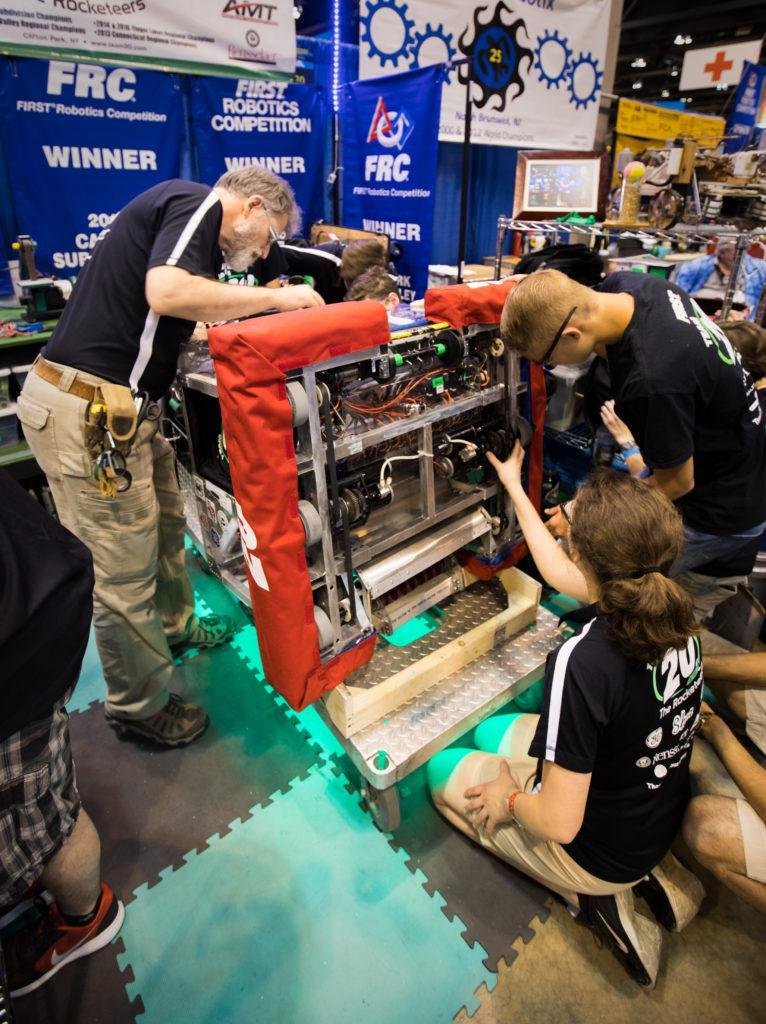robot: (133, 270, 556, 716)
